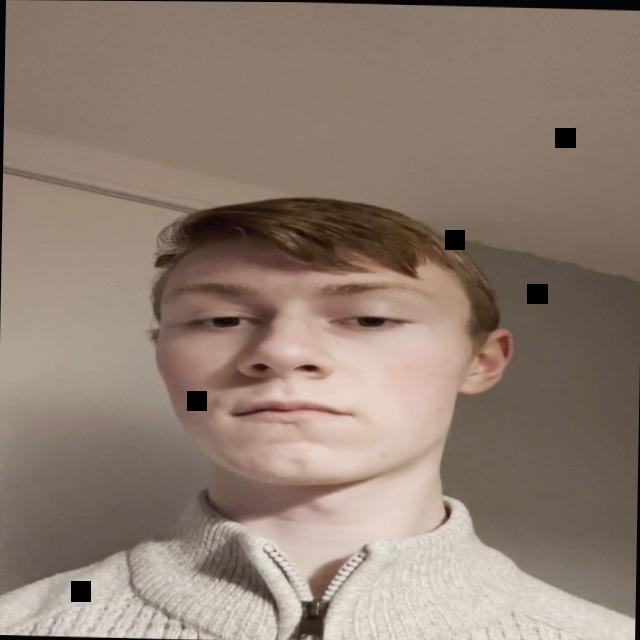NO-Mask: (145, 196, 496, 522)
